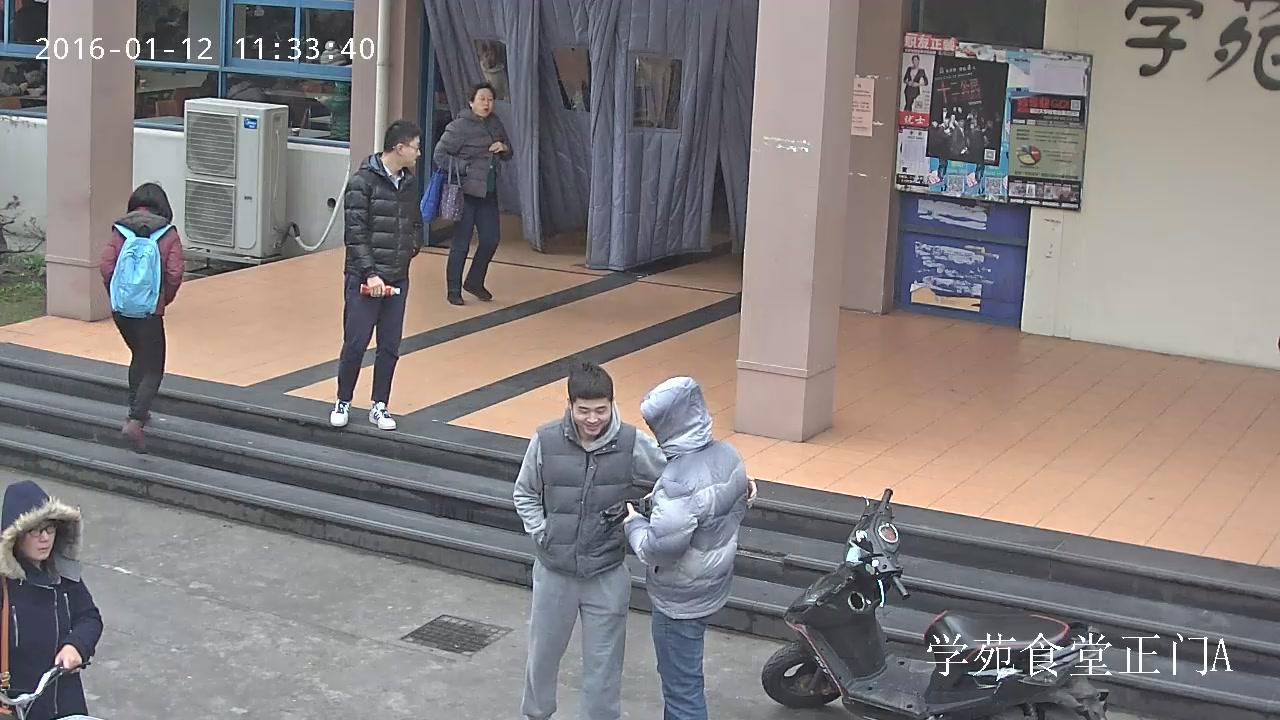person: (512, 363, 758, 720), (600, 375, 748, 720), (329, 118, 422, 431), (0, 479, 105, 720), (0, 479, 103, 720), (100, 182, 184, 452), (419, 82, 513, 306), (318, 39, 352, 141), (0, 58, 45, 98), (902, 56, 928, 113)
